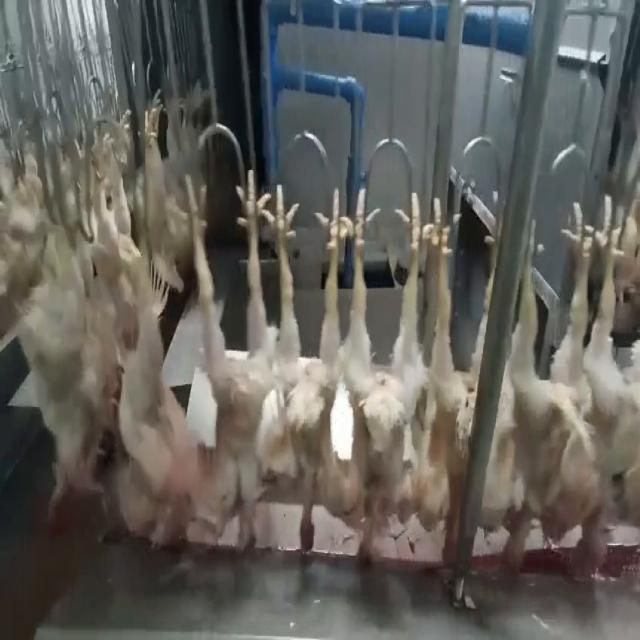chicken: (489, 190, 604, 570), (330, 189, 431, 566), (168, 167, 264, 556), (408, 183, 499, 541), (562, 190, 637, 582), (270, 183, 344, 561), (99, 170, 168, 532)
